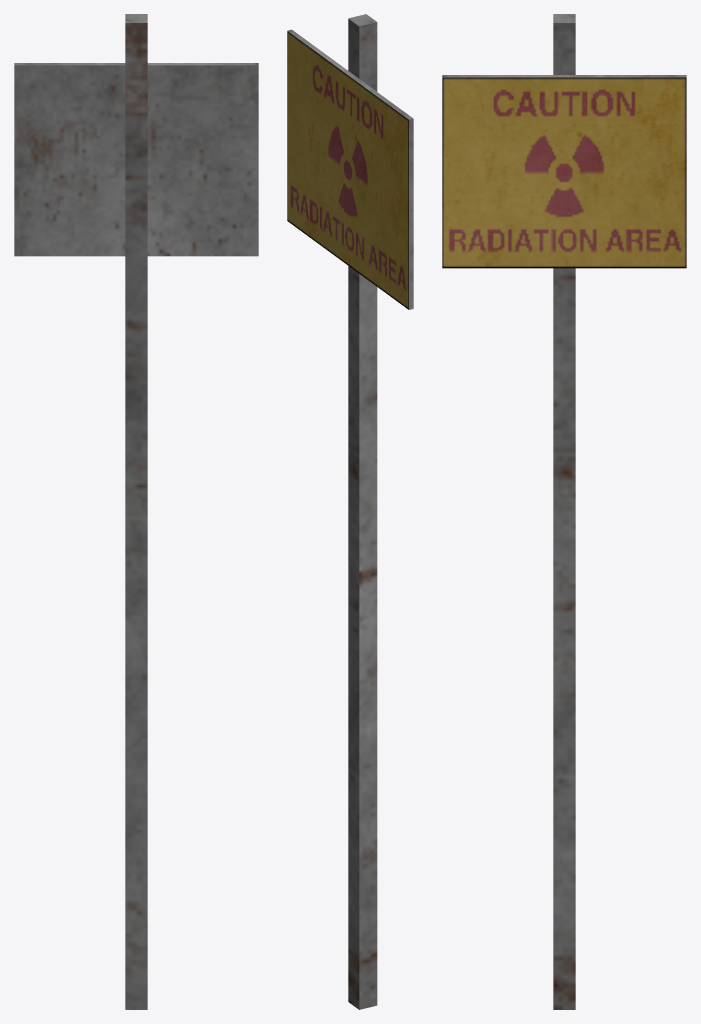
The model's file is Sign_10.fbx.
3 renders of one model, left to right at view 1: azimuth 90°, elevation 25°; view 2: azimuth 210°, elevation 25°; view 3: azimuth 270°, elevation 25°, orthographic.
Parts seen in each view (by area): view 1: Sign_10; view 2: Sign_10; view 3: Sign_10.
Part boxes in pixels (box(x1,y1,x2,y2)): Sign_10: box(14, 14, 258, 1009); Sign_10: box(287, 14, 413, 1009); Sign_10: box(442, 14, 686, 1009).
Bounding box in the file's own units: 5.56 × 221 × 49.48.
